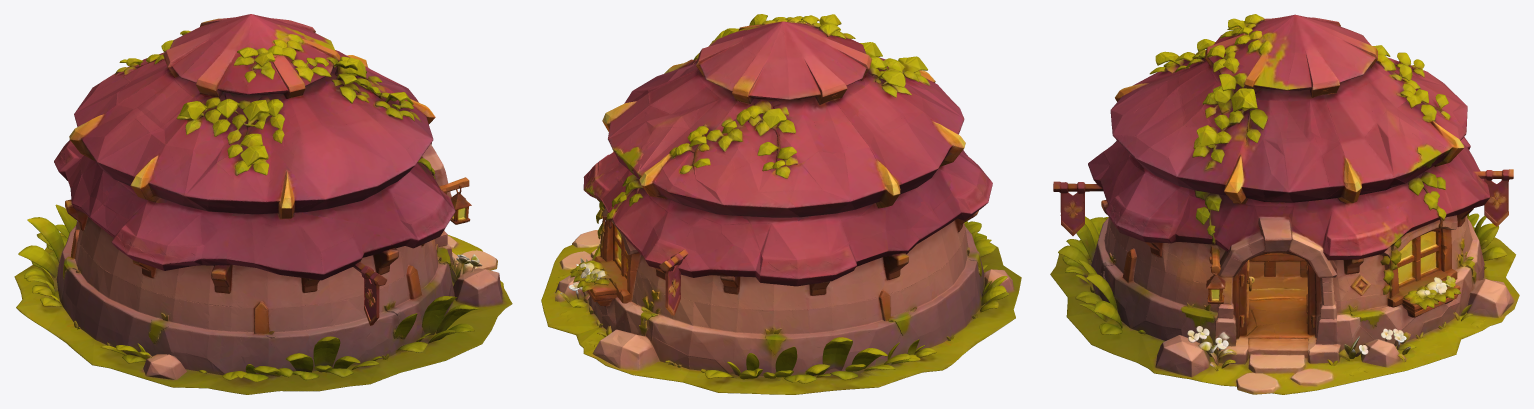
File: KeepSakeRockHouse-compressed.glb
The picture shows the model from 3 angles, left to right: view 1: azimuth 30°, elevation 25°; view 2: azimuth 150°, elevation 25°; view 3: azimuth 270°, elevation 25°; orthographic projection. The views are drawn at different scales.
Parts seen in each view (by area): view 1: tripo_node_a686f7b6-5bbe-4358-94a3-2eab0c1102e9; view 2: tripo_node_a686f7b6-5bbe-4358-94a3-2eab0c1102e9; view 3: tripo_node_a686f7b6-5bbe-4358-94a3-2eab0c1102e9.
Part boxes in pixels (x1,y1,x2,y2): tripo_node_a686f7b6-5bbe-4358-94a3-2eab0c1102e9: (14, 14, 512, 394); tripo_node_a686f7b6-5bbe-4358-94a3-2eab0c1102e9: (541, 14, 1021, 394); tripo_node_a686f7b6-5bbe-4358-94a3-2eab0c1102e9: (1050, 14, 1519, 394).
Bounding box in the file's own units: 0.9774 × 0.6333 × 0.9799.
Materials: 1 (1 with a texture image).
